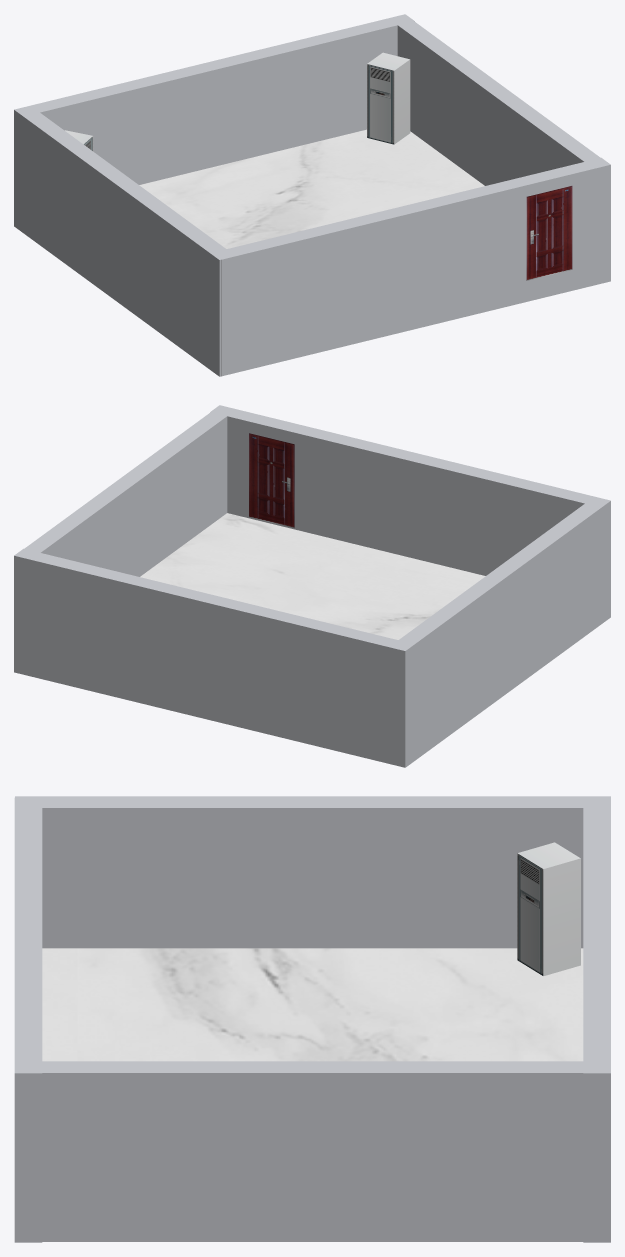
File: machineRoom.gltf
3 renders of one model, top to bottom at view 1: azimuth 30°, elevation 25°; view 2: azimuth 150°, elevation 25°; view 3: azimuth 270°, elevation 25°, orthographic. The views are drawn at different scales.
Parts seen in each view (by area): view 1: 墙B1, 墙B2, 墙A2, 地面, 墙A1, 门A, 空调1; view 2: 墙B2, 墙B1, 墙A2, 地面, 墙A1, 门B; view 3: 墙A1, 墙A2, 地面, 墙B1, 墙B2, 空调2.
Part boxes in pixels (bbox=[...]): 墙B1: bbox=[212, 157, 610, 376]; 墙B2: bbox=[31, 14, 414, 184]; 墙A2: bbox=[14, 105, 234, 376]; 地面: bbox=[139, 129, 484, 248]; 墙A1: bbox=[389, 16, 609, 185]; 门A: bbox=[526, 186, 572, 280]; 空调1: bbox=[367, 52, 410, 144]; 墙B2: bbox=[14, 548, 412, 767]; 墙B1: bbox=[211, 405, 606, 575]; 墙A2: bbox=[389, 496, 610, 767]; 地面: bbox=[140, 513, 485, 639]; 墙A1: bbox=[24, 405, 235, 576]; 门B: bbox=[249, 433, 294, 528]; 墙A1: bbox=[15, 1061, 610, 1241]; 墙A2: bbox=[15, 796, 610, 948]; 地面: bbox=[42, 948, 583, 1061]; 墙B1: bbox=[14, 797, 42, 1242]; 墙B2: bbox=[583, 798, 610, 1242]; 空调2: bbox=[517, 842, 580, 976].
Size of the model in its own units: 72.5 by 20.69 by 66.07.
10 materials, 5 textured.
